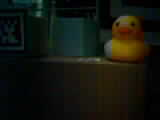duck: (101, 16, 148, 65)
